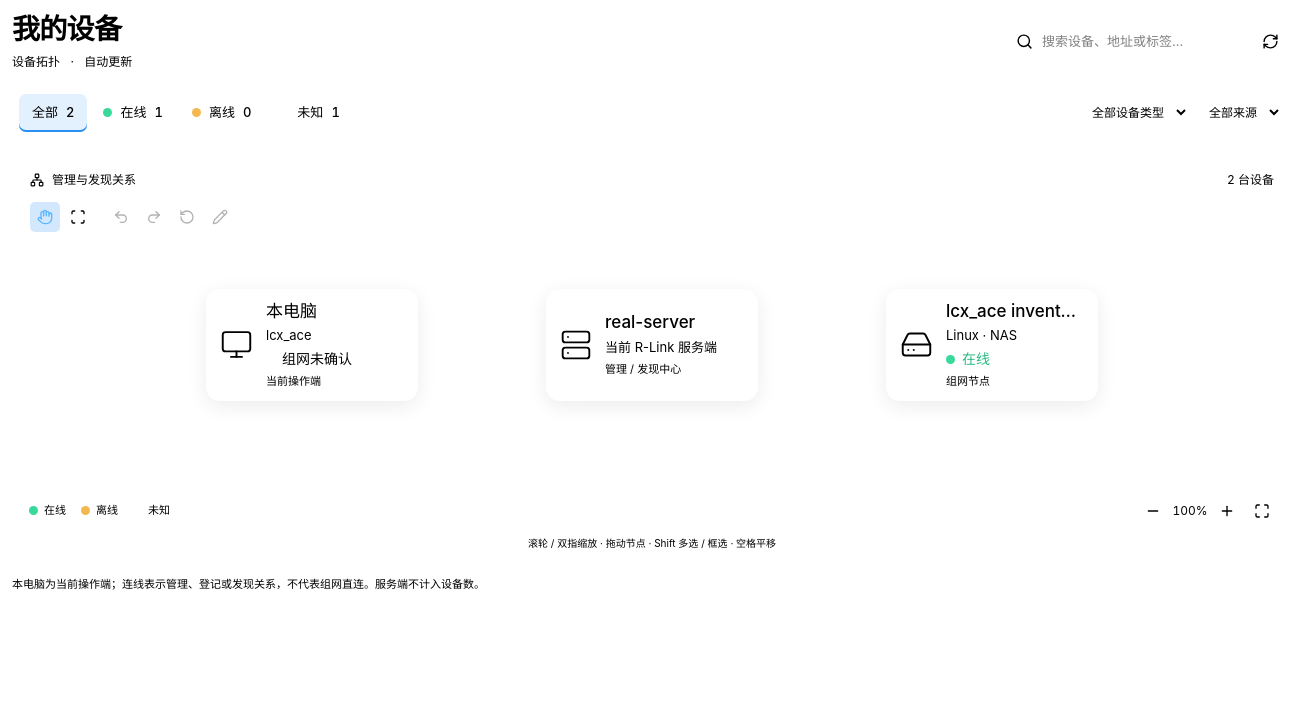
it: refreshes the local Agent and confirms the matched controlplane after enrollment, merging its real peer
Click the button with aria-label "查看设备：本电脑".
click(312, 344)  # box x1=206 y1=288 x2=418 y2=400
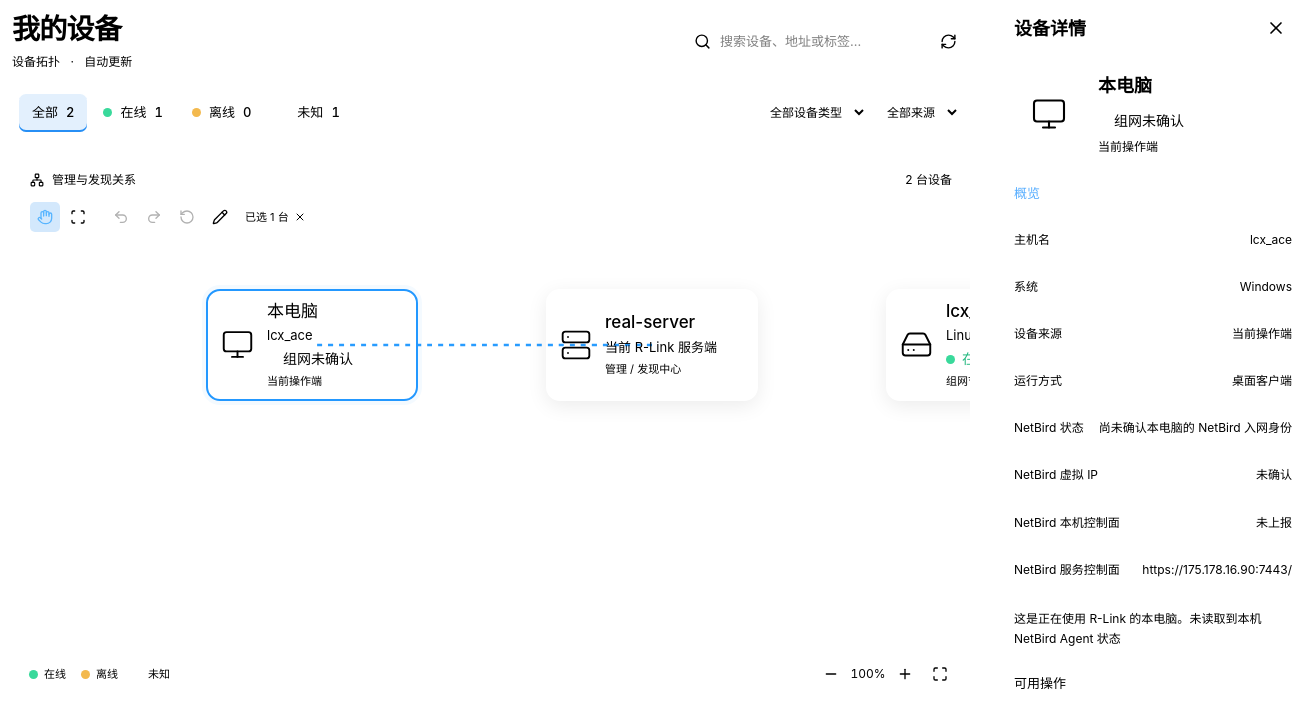
Now the text "组网未确认" below "设备详情" is shown, box x1=1114 y1=112 x2=1184 y2=129
Click the button named "刷新状态".
click(948, 42)  # box x1=927 y1=23 x2=970 y2=60
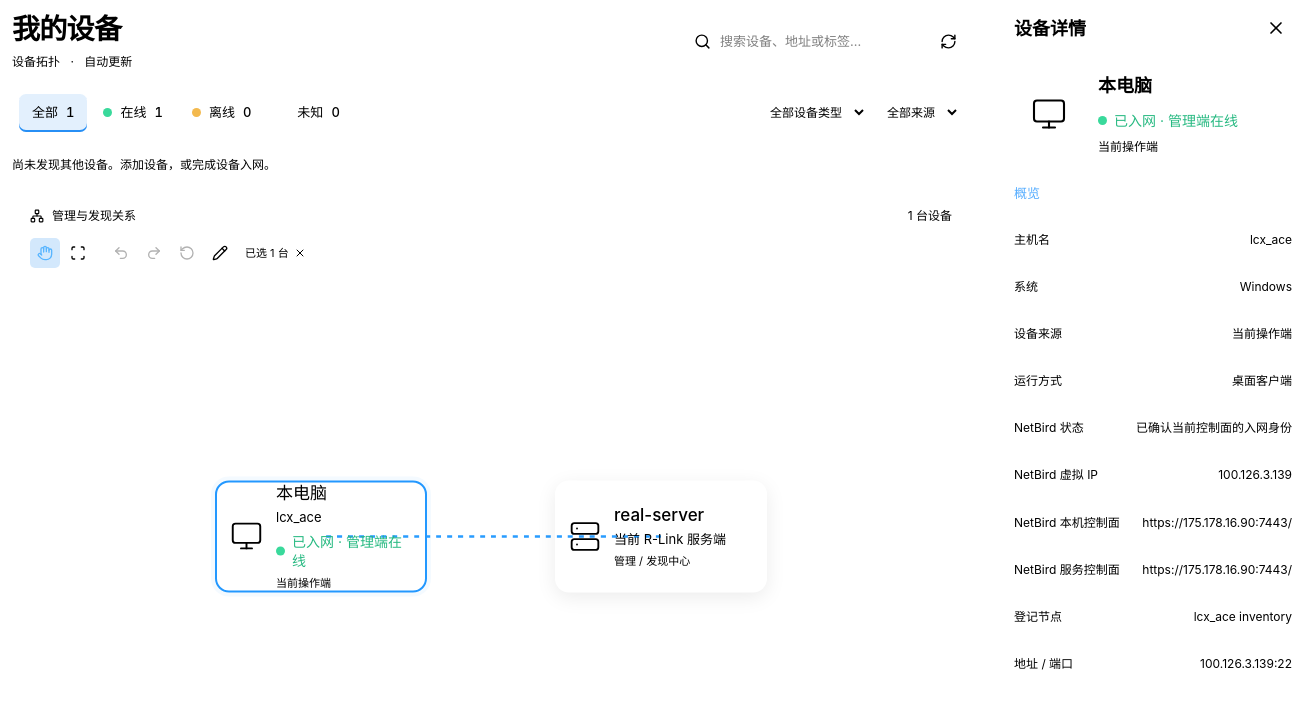
Now the button with aria-label "全部设备 1" is shown, box x1=19 y1=94 x2=88 y2=132
Now the text "已入网 · 管理端在线" below "设备详情" is shown, box x1=1114 y1=112 x2=1238 y2=129
Now the text "100.126.3.139" is shown, box x1=1218 y1=465 x2=1292 y2=485
